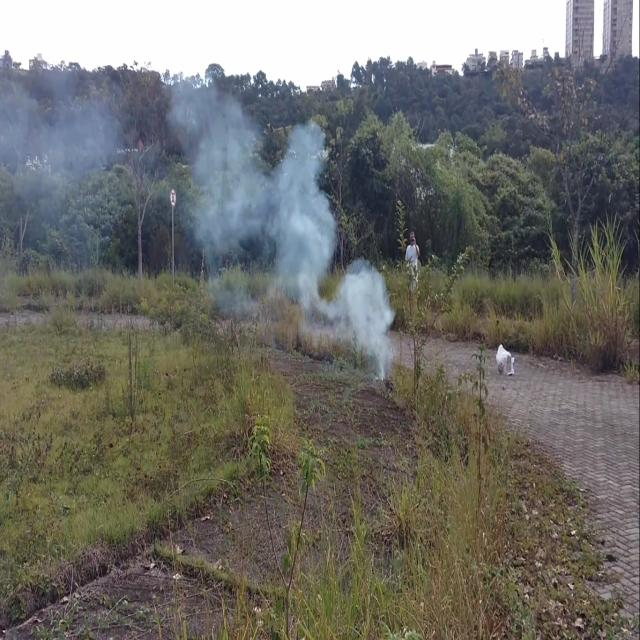smoke: (344, 269, 384, 348)
